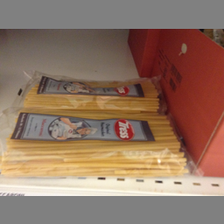pasta: (1, 108, 193, 180), (14, 69, 168, 111)
